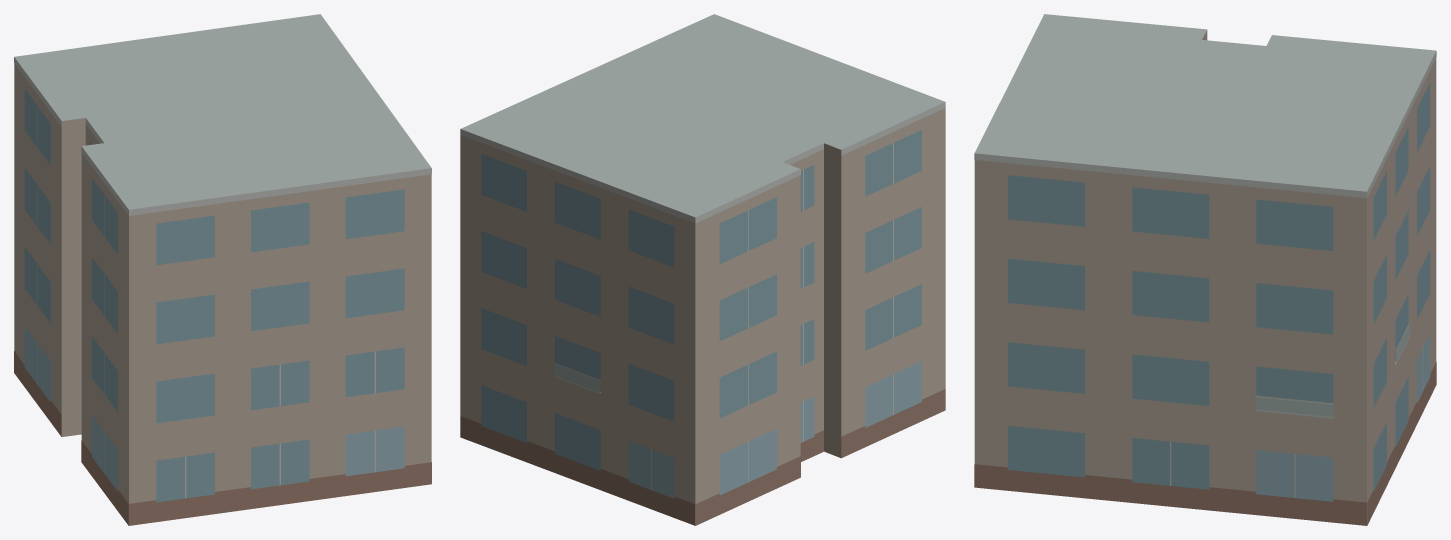
File: survey-upis-32953984.glb
3 views of the same model, side by side, from view 1: azimuth 30°, elevation 25°; view 2: azimuth 150°, elevation 25°; view 3: azimuth 270°, elevation 25° (orthographic). The views are drawn at different scales.
Visible parts, largest first — view 1: survey-upis-32953984.tmp; view 2: survey-upis-32953984.tmp; view 3: survey-upis-32953984.tmp.
Boxes of the visible parts, x1=… form: survey-upis-32953984.tmp: x1=14, y1=14, x2=431, y2=525; survey-upis-32953984.tmp: x1=460, y1=14, x2=945, y2=525; survey-upis-32953984.tmp: x1=974, y1=14, x2=1436, y2=525.
Size of the model in its own units: 14.27 by 12.5 by 15.67.
